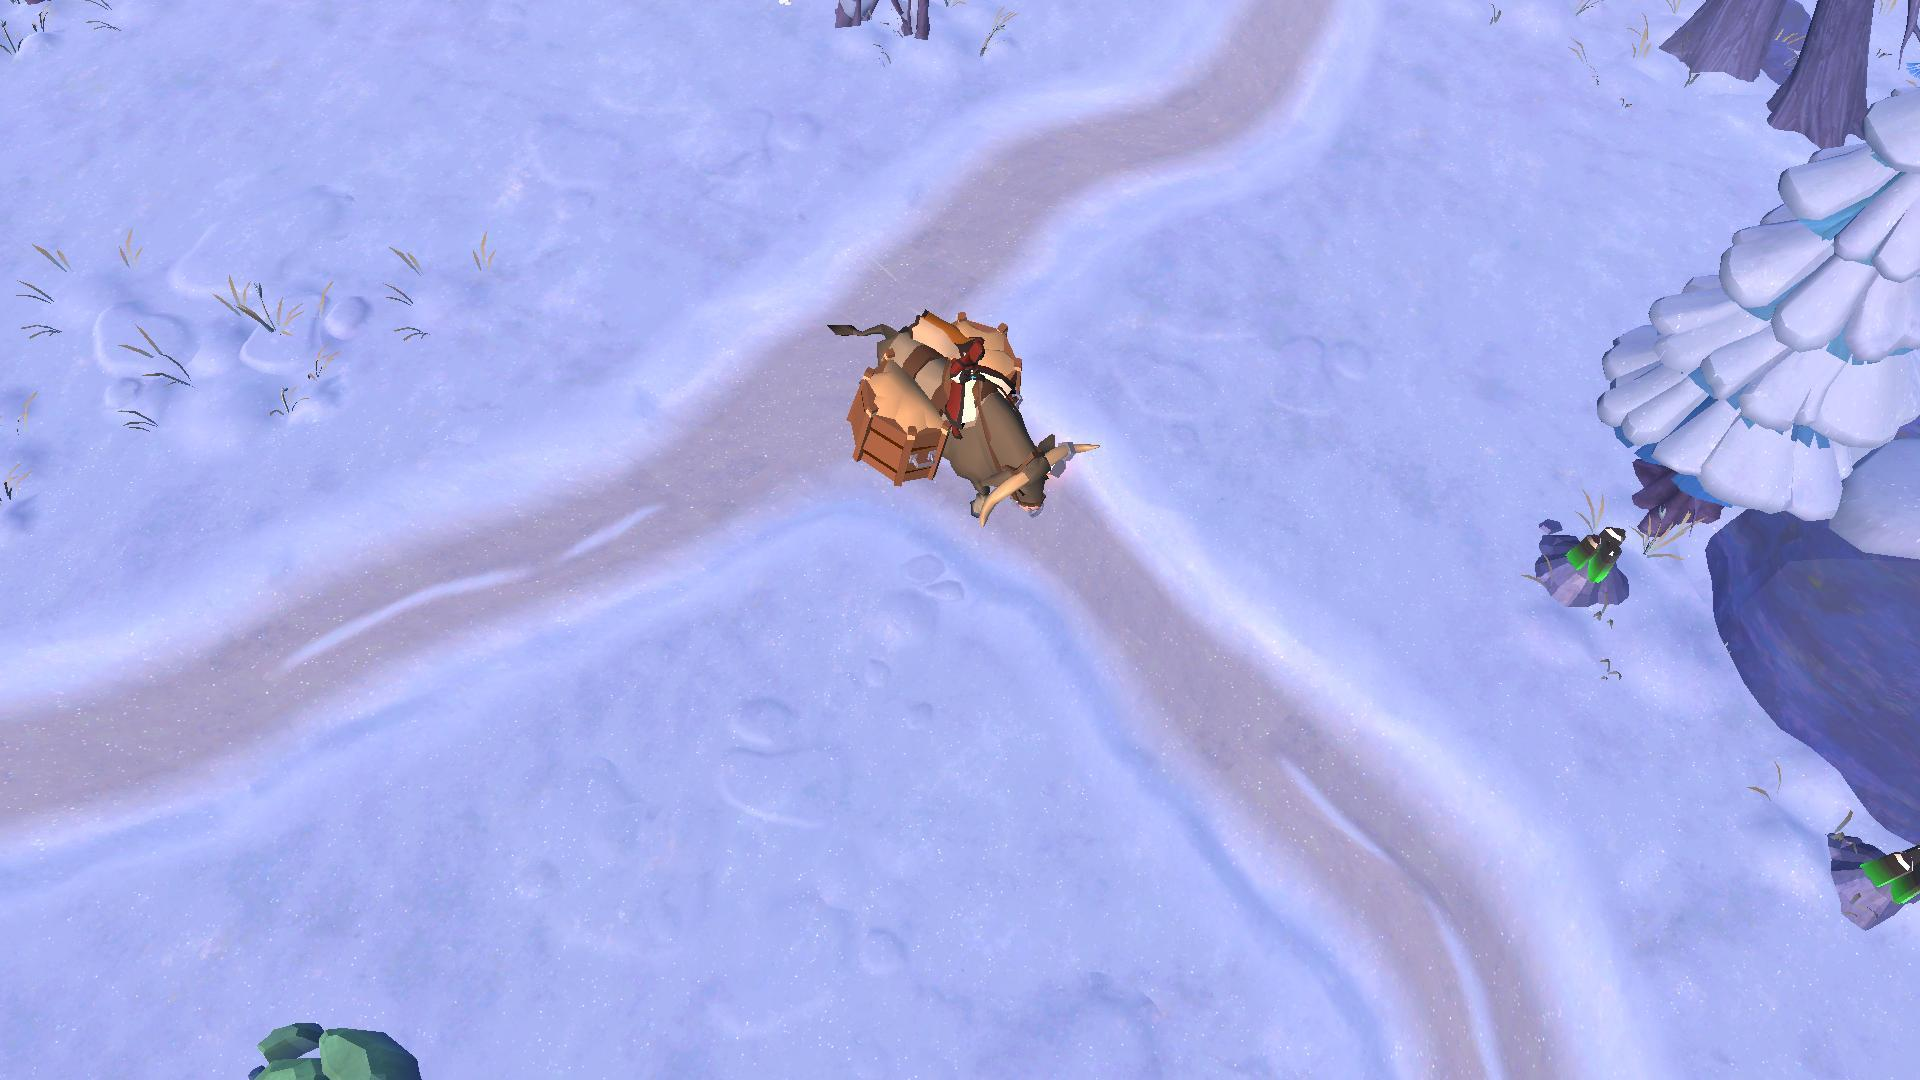ore_t3: (1571, 518, 1627, 588), (1873, 832, 1920, 901)
rock_t3: (243, 1018, 422, 1080)
